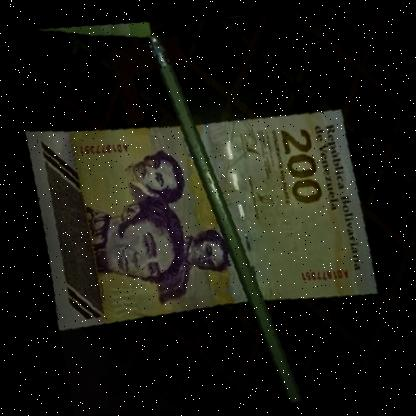two_hundred-front-vef: (6, 79, 387, 342)
